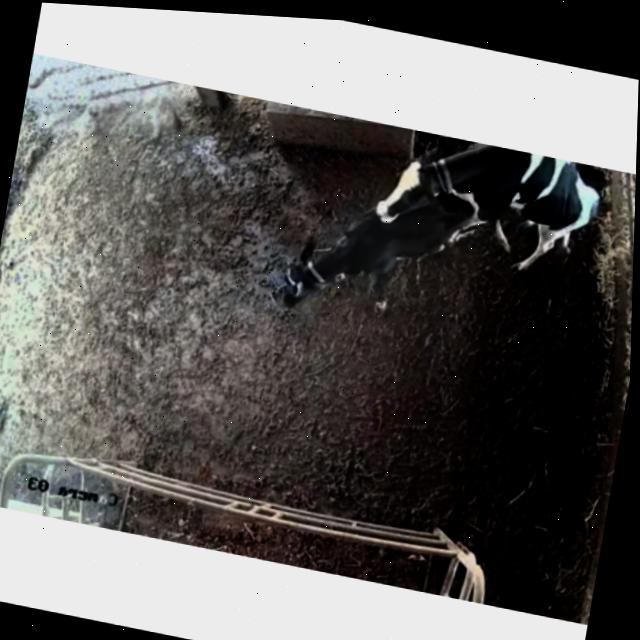ride: (357, 122, 636, 317)
